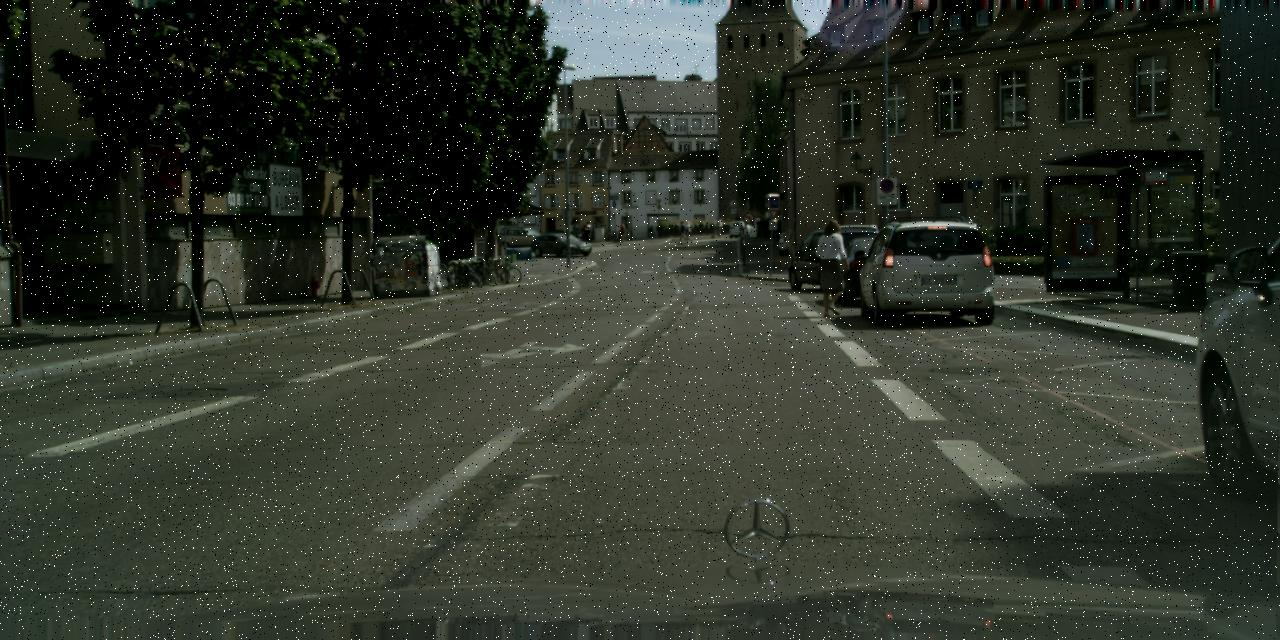ped: (812, 219, 851, 316), (776, 231, 791, 268), (580, 222, 592, 242), (684, 220, 693, 244), (618, 220, 627, 242), (678, 220, 686, 242), (714, 218, 721, 237), (649, 223, 654, 238)
